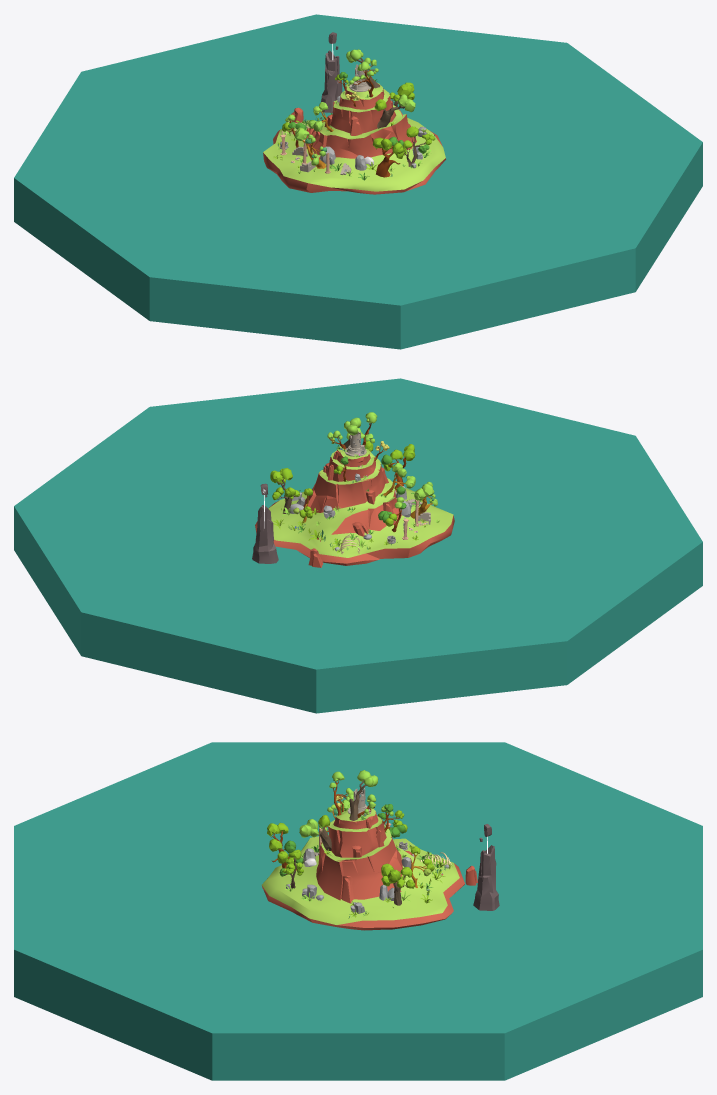
3 renders of one model, top to bottom at view 1: azimuth 30°, elevation 25°; view 2: azimuth 150°, elevation 25°; view 3: azimuth 270°, elevation 25°, orthographic. The views are drawn at different scales.
Parts seen in each view (by area): view 1: yet_111, Plane.014_108, Cylinder.009_94; view 2: yet_111, Plane.014_108, Cylinder.009_94; view 3: yet_111, Plane.014_108, Cylinder.009_94.
Boxes of the visible parts, bbox=[...] form: yet_111: bbox=[14, 14, 702, 349]; Plane.014_108: bbox=[263, 83, 445, 194]; Cylinder.009_94: bbox=[321, 50, 342, 112]; yet_111: bbox=[14, 378, 702, 713]; Plane.014_108: bbox=[255, 446, 454, 565]; Cylinder.009_94: bbox=[252, 505, 278, 563]; yet_111: bbox=[14, 742, 702, 1080]; Plane.014_108: bbox=[261, 808, 464, 930]; Cylinder.009_94: bbox=[473, 845, 499, 910].
Size of the model in its own units: 479 by 126 by 479.
